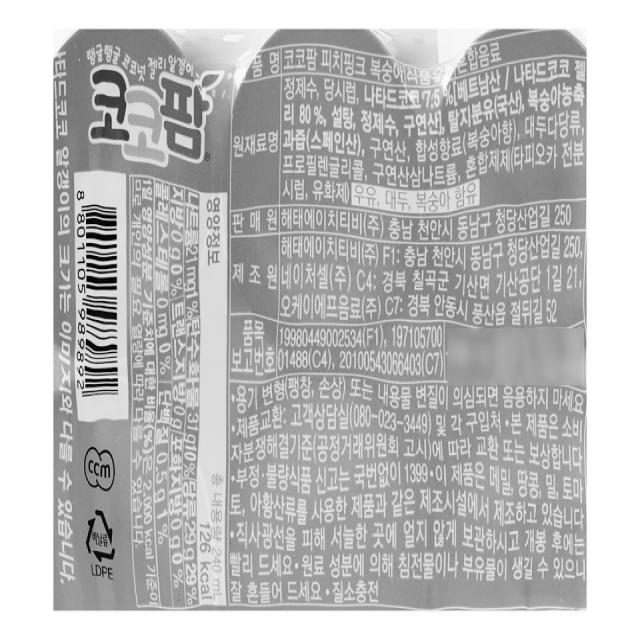Nutrition Label: (128, 169, 238, 640)
